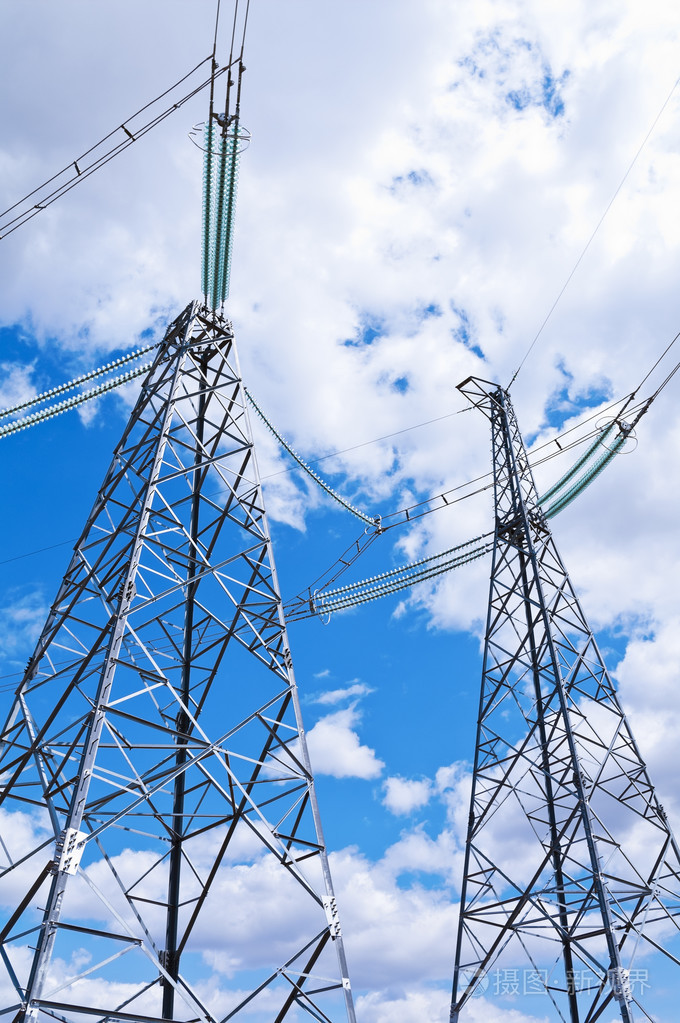insulator: (245, 393, 375, 528), (1, 345, 157, 440), (310, 539, 488, 620), (199, 116, 246, 304), (540, 419, 625, 521)
